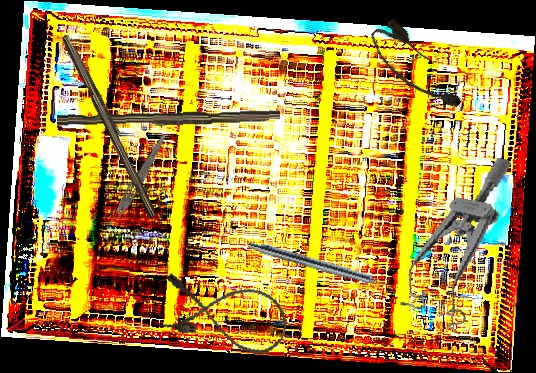Cannula: (154, 268, 294, 360), (363, 15, 468, 123)
Dressing Forceps: (102, 131, 169, 237)
Handpiece: (245, 238, 399, 296)
Scalpel Handle: (58, 32, 163, 219), (56, 107, 281, 132)
Speculum: (396, 144, 512, 337)
